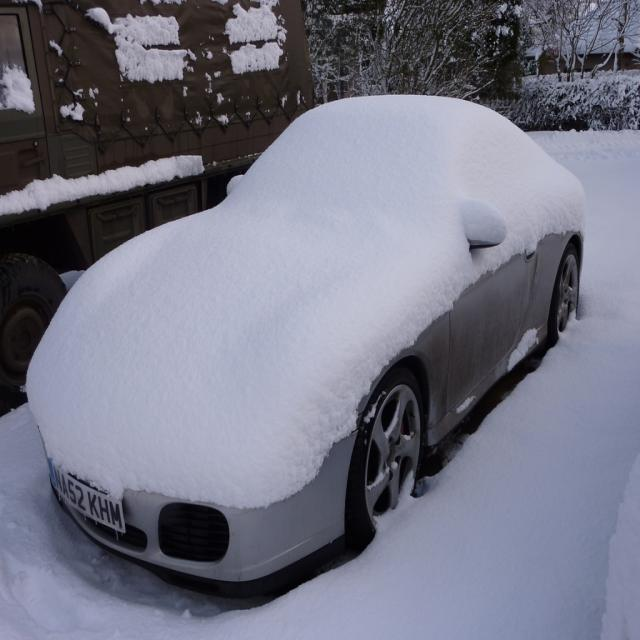car: (25, 85, 563, 603)
